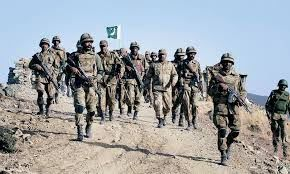gun: (209, 72, 254, 113), (67, 52, 102, 97), (34, 51, 58, 89), (123, 52, 146, 83), (185, 63, 204, 91)
uniform: (68, 51, 99, 131), (214, 72, 241, 153), (178, 59, 202, 121), (33, 50, 55, 114), (149, 60, 173, 115), (122, 53, 144, 112), (268, 85, 289, 146), (98, 51, 117, 118)
